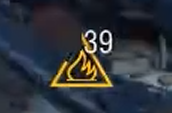1fire: (43, 56, 116, 91)
